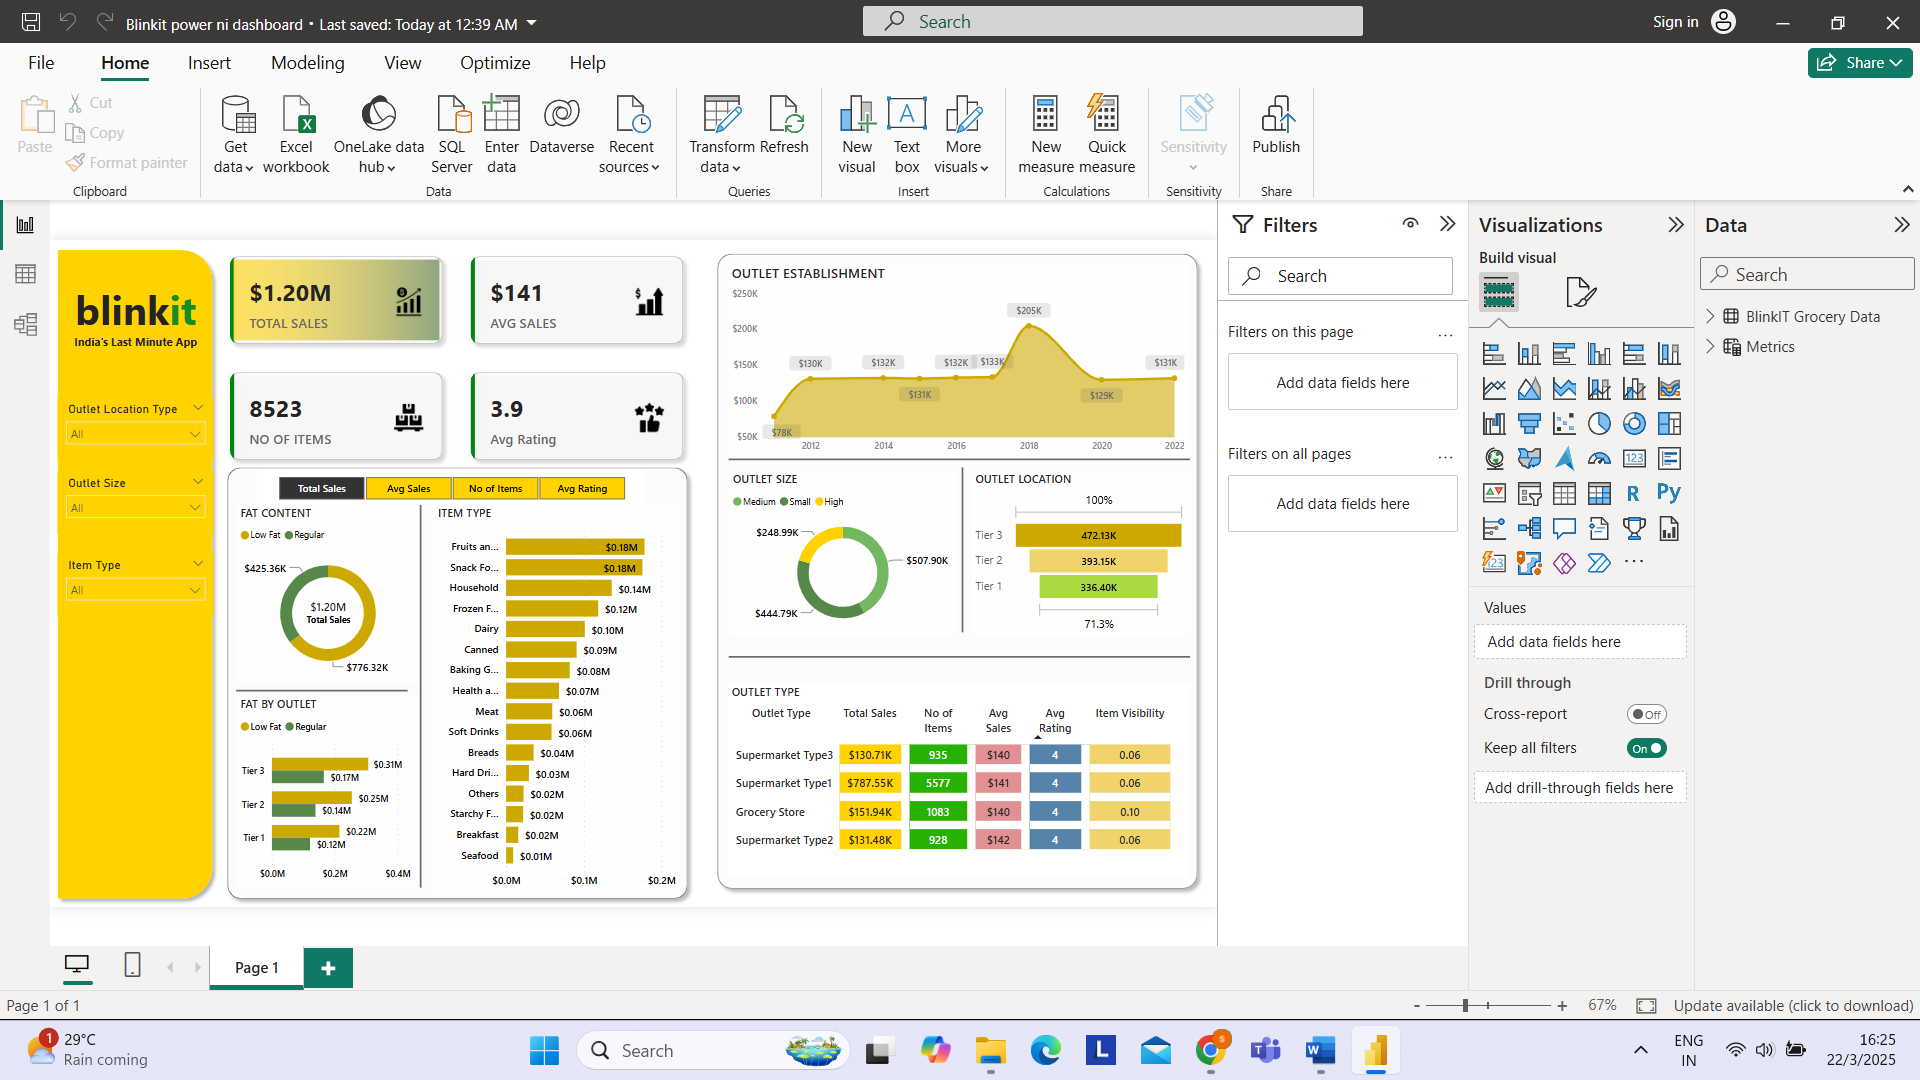

The page's visual inventory and layout, read from the dashboard file:
{"tool":"powerbi","page":{"name":"Page 1","canvas":[1400,800],"ordinal":0},"visuals":[{"type":"shape","box":[0,3,203.9,796.3],"z":0},{"type":"textbox","box":[9,45,187.4,81],"z":1000},{"type":"textbox","box":[24,108,172.5,34.5],"z":2000},{"type":"cardVisual","fields":{"Data":["BlinkIT Grocery Data.Total Sales","BlinkIT Grocery Data.Avg Sales","BlinkIT Grocery Data.No of Items","BlinkIT Grocery Data.Avg Rating"]},"box":[203.9,7.5,569.8,269.9],"z":3000},{"type":"shape","box":[203.9,263.9,569.8,535.4],"z":4000},{"type":"donutChart","title":"FAT CONTENT","fields":{"Y":["BlinkIT Grocery Data.Total Sales"],"Category":["BlinkIT Grocery Data.Item Fat Content"]},"box":[223.4,317.9,220.4,214.4],"z":5000},{"type":"slicer","fields":{"Values":["Metrics.Metrics"]},"box":[248.9,277.4,464.9,40.5],"z":6000},{"type":"cardVisual","fields":{"Data":["BlinkIT Grocery Data.Total Sales"]},"box":[280.4,413.9,108,61.5],"z":7000},{"type":"clusteredBarChart","title":"FAT BY OUTLET","fields":{"Y":["BlinkIT Grocery Data.Total Sales"],"Category":["BlinkIT Grocery Data.Outlet Location Type"],"Series":["BlinkIT Grocery Data.Item Fat Content"]},"box":[223.4,547.3,220.4,229.4],"z":8000},{"type":"shape","box":[223.4,520.4,205.4,40.5],"z":9000},{"type":"shape","box":[428.9,317.9,31.5,458.9],"z":10000},{"type":"barChart","title":"ITEM TYPE","fields":{"Y":["BlinkIT Grocery Data.Total Sales"],"Category":["BlinkIT Grocery Data.Item Type"]},"box":[460.4,317.9,295.4,469.4],"z":11000},{"type":"shape","box":[791.8,7.5,593.8,779.8],"z":12000},{"type":"areaChart","title":"OUTLET ESTABLISHMENT","fields":{"Category":["BlinkIT Grocery Data.Outlet Establishment Year"],"Y":["BlinkIT Grocery Data.Total Sales"]},"box":[812.8,28.5,553.3,235.4],"z":13000},{"type":"shape","box":[814.3,242.9,553.3,40.5],"z":14000},{"type":"donutChart","title":"OUTLET SIZE","fields":{"Y":["BlinkIT Grocery Data.Total Sales"],"Category":["BlinkIT Grocery Data.Outlet Size"]},"box":[814.3,277.4,274.4,197.9],"z":15000},{"type":"shape","box":[1081,273,27,197.9],"z":16000},{"type":"funnel","title":"OUTLET LOCATION","fields":{"Y":["Sum(BlinkIT Grocery Data.Sales)"],"Category":["BlinkIT Grocery Data.Outlet Location Type"]},"box":[1105.2,277.4,262.4,197.9],"z":17000},{"type":"shape","box":[814.3,479.9,553.3,40.5],"z":18000},{"type":"pivotTable","title":"OUTLET TYPE","fields":{"Rows":["BlinkIT Grocery Data.Outlet Type"],"Values":["BlinkIT Grocery Data.Total Sales","BlinkIT Grocery Data.No of Items","BlinkIT Grocery Data.Avg Sales","BlinkIT Grocery Data.Avg Rating","Avg(BlinkIT Grocery Data.Item Visibility)"]},"box":[812.8,532.4,553.3,232.4],"z":19000},{"type":"slicer","fields":{"Values":["BlinkIT Grocery Data.Outlet Location Type"]},"box":[9,188.9,187.4,75],"z":19001},{"type":"slicer","fields":{"Values":["BlinkIT Grocery Data.Outlet Size"]},"box":[9,277.4,187.4,75],"z":19002},{"type":"slicer","fields":{"Values":["BlinkIT Grocery Data.Item Type"]},"box":[9,376.4,187.4,75],"z":19003}]}

Visuals, with their boxes on the page's 1400x800 design canvas (x1, y1, x2, y2). These are canvas units, not pixel positions in the 1920x1080 screenshot, which may show the page scaled, cropped or inside an application window:
shape: 0, 3, 204, 799
textbox: 9, 45, 196, 126
textbox: 24, 108, 196, 142
cardVisual - BlinkIT Grocery Data.Total Sales x BlinkIT Grocery Data.Avg Sales: 204, 8, 774, 277
shape: 204, 264, 774, 799
"FAT CONTENT" donutChart: 223, 318, 444, 532
slicer - Metrics.Metrics: 249, 277, 714, 318
cardVisual - BlinkIT Grocery Data.Total Sales: 280, 414, 388, 475
"FAT BY OUTLET" clusteredBarChart: 223, 547, 444, 777
shape: 223, 520, 429, 561
shape: 429, 318, 460, 777
"ITEM TYPE" barChart: 460, 318, 756, 787
shape: 792, 8, 1386, 787
"OUTLET ESTABLISHMENT" areaChart: 813, 28, 1366, 264
shape: 814, 243, 1368, 283
"OUTLET SIZE" donutChart: 814, 277, 1089, 475
shape: 1081, 273, 1108, 471
"OUTLET LOCATION" funnel: 1105, 277, 1368, 475
shape: 814, 480, 1368, 520
"OUTLET TYPE" pivotTable: 813, 532, 1366, 765
slicer - BlinkIT Grocery Data.Outlet Location Type: 9, 189, 196, 264
slicer - BlinkIT Grocery Data.Outlet Size: 9, 277, 196, 352
slicer - BlinkIT Grocery Data.Item Type: 9, 376, 196, 451
